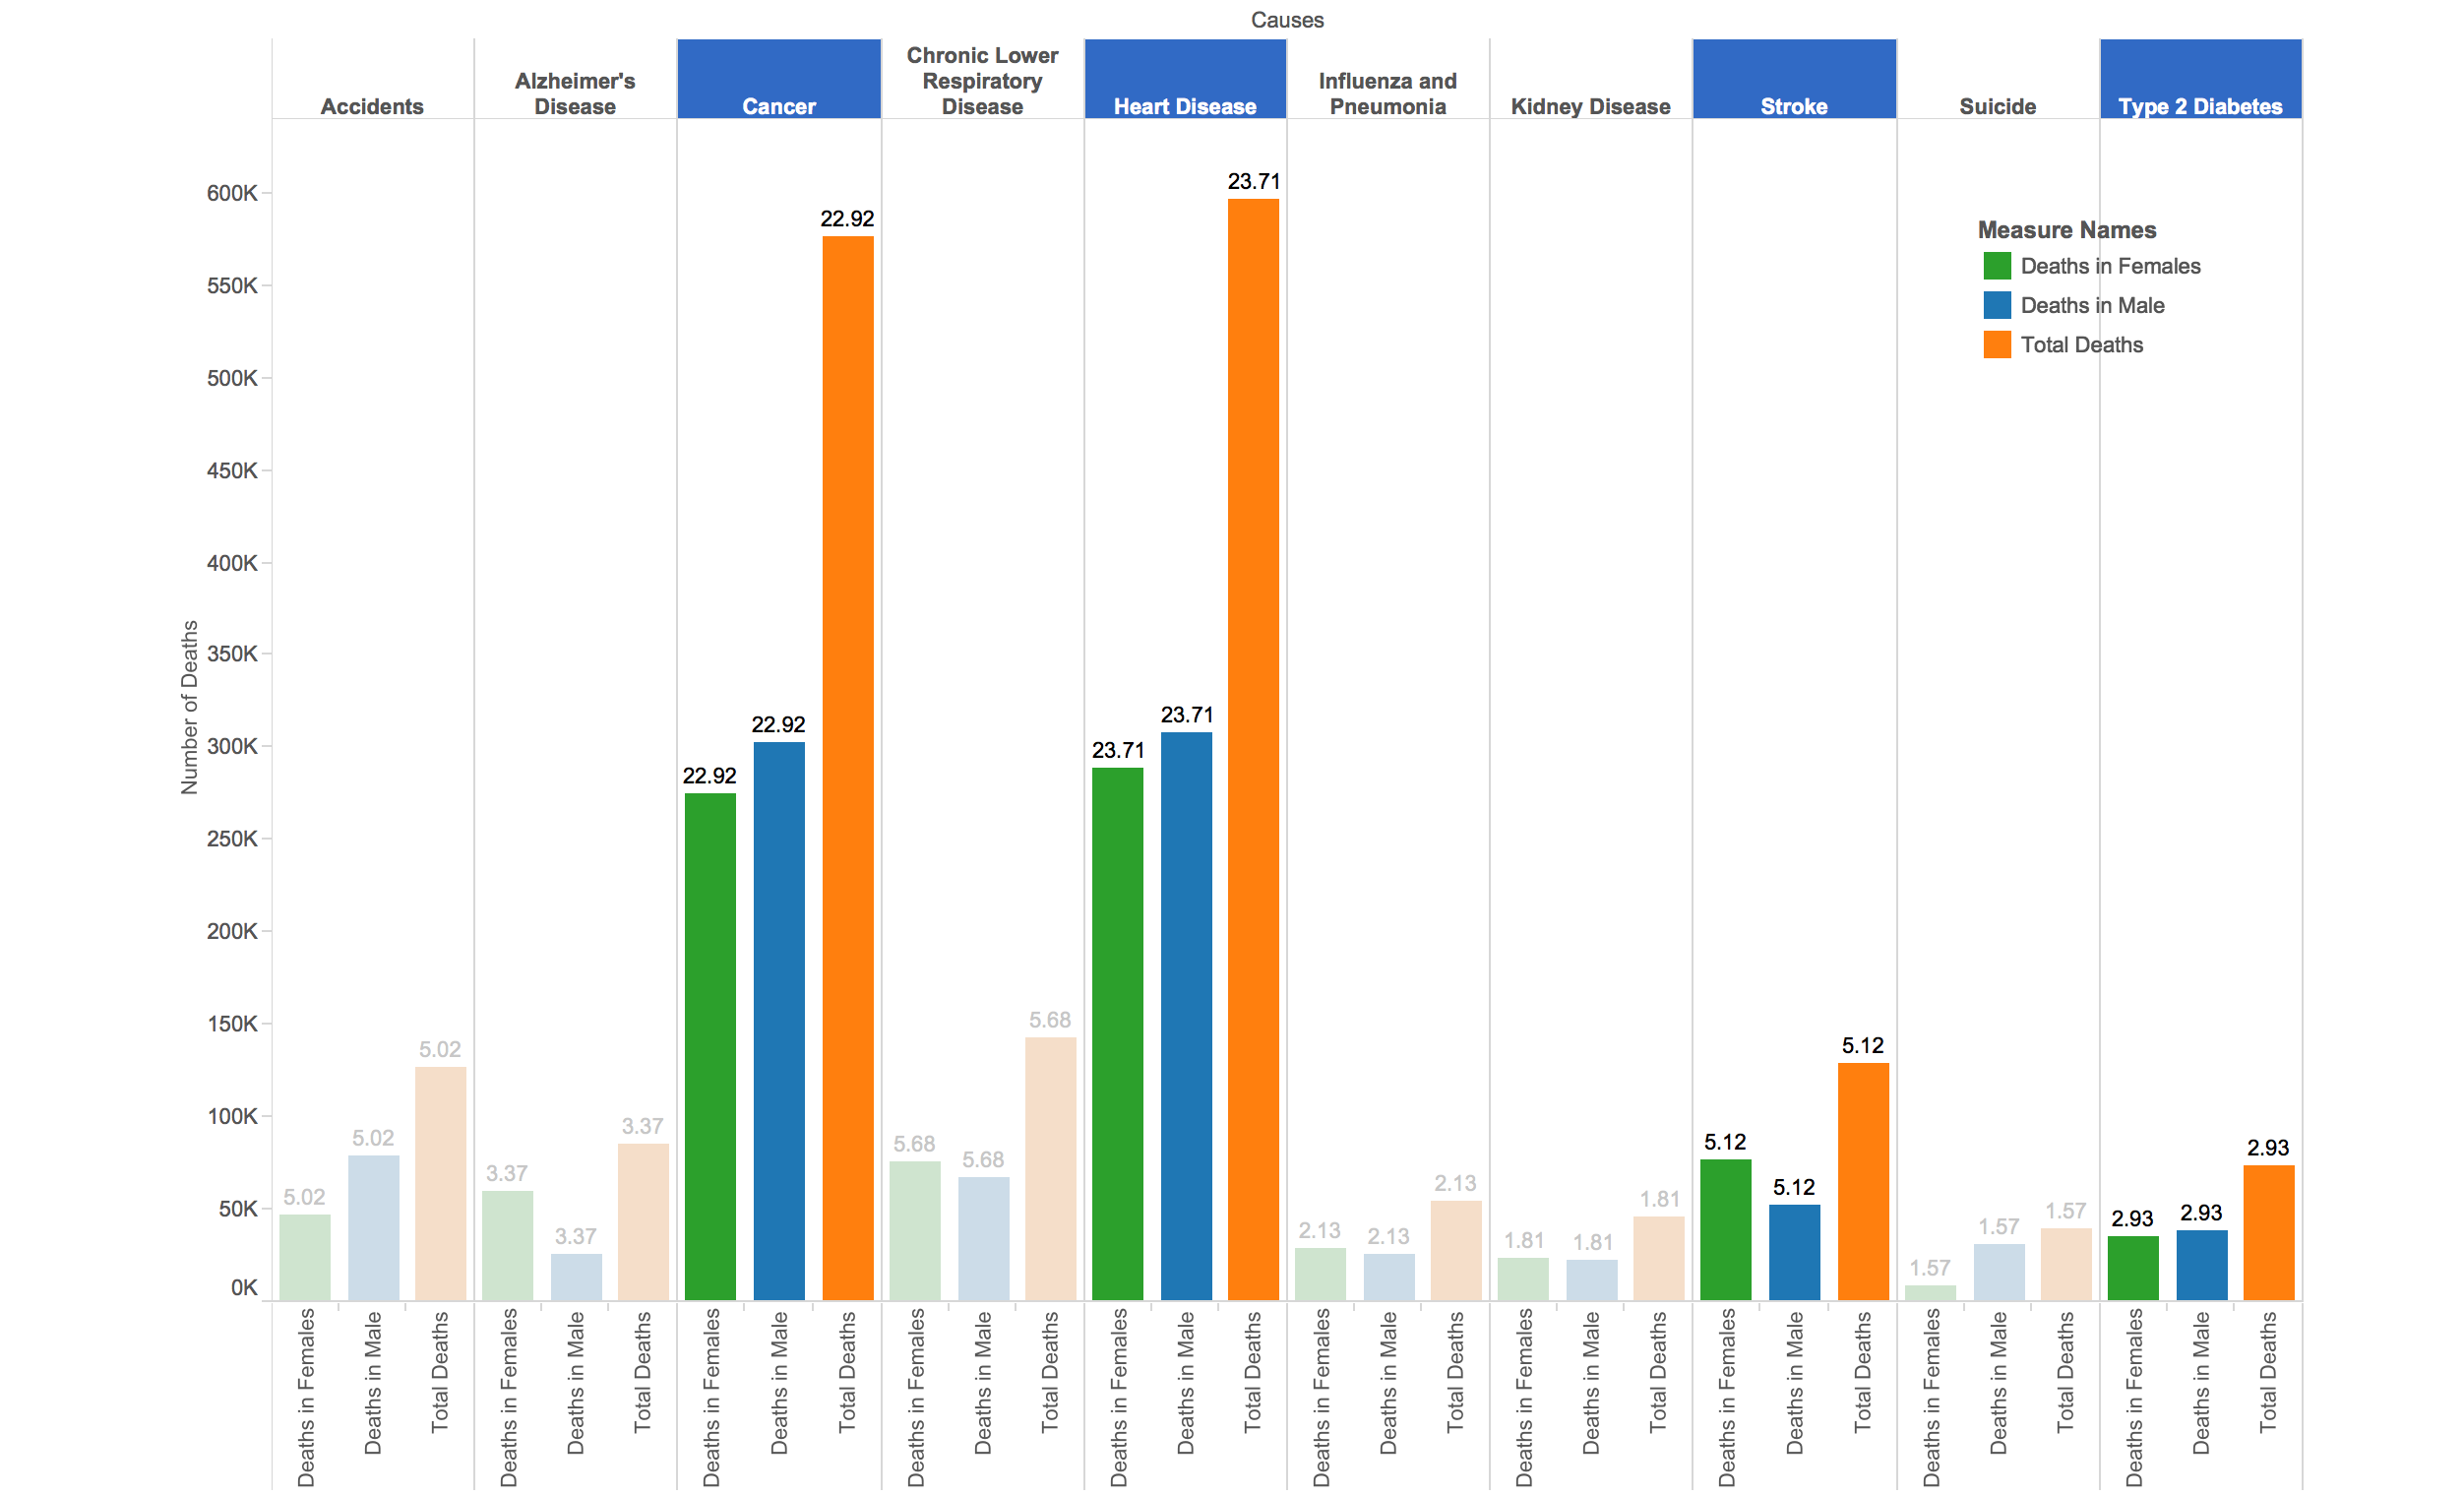

The page's visual inventory and layout, read from the dashboard file:
{"tool":"tableau","page":{"name":"Dashboard 1","canvas":[1100,800],"ordinal":0},"visuals":[{"type":"worksheet","title":"Sheet 1","mark":"Bar","cols":["Causes"],"box":[0,0,1096,800]},{"type":"legend","title":"Sheet 1","param":"[excel-direct.42211.953318298600].[:Measure Names]","box":[926.2,144,154,75]}]}

Visuals, with their boxes on the page's 1100x800 design canvas (x1, y1, x2, y2). These are canvas units, not pixel positions in the 2464x1496 screenshot, which may show the page scaled, cropped or inside an application window:
"Sheet 1" worksheet (Bar marks): 0:0:1096:800
"Sheet 1" legend: 926:144:1080:219
